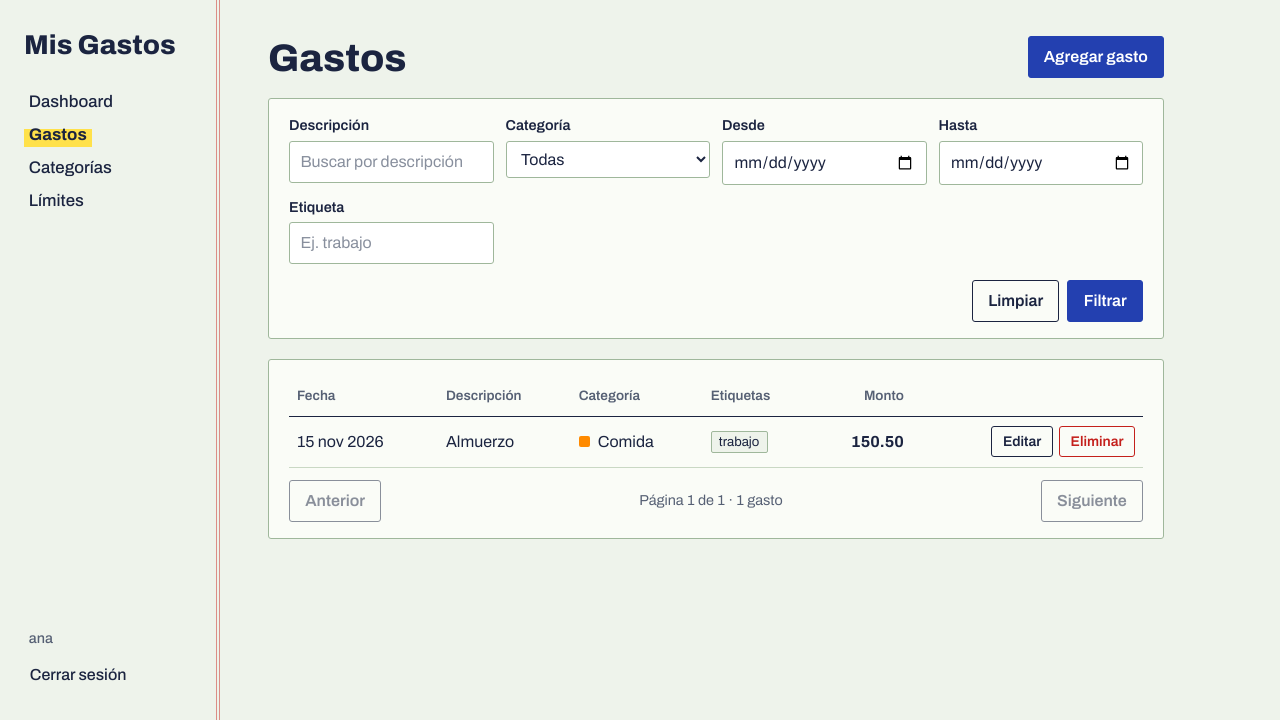
it: ExpensesPage: filters › explains that no expense matches the filters
Check: the heading "Gastos" is shown, box [268,38,407,78]
Check: the table is shown, box [289,376,1143,468]
Type "nada" into the search field labelled "Descripción" at (391, 162), box [289,141,494,183]
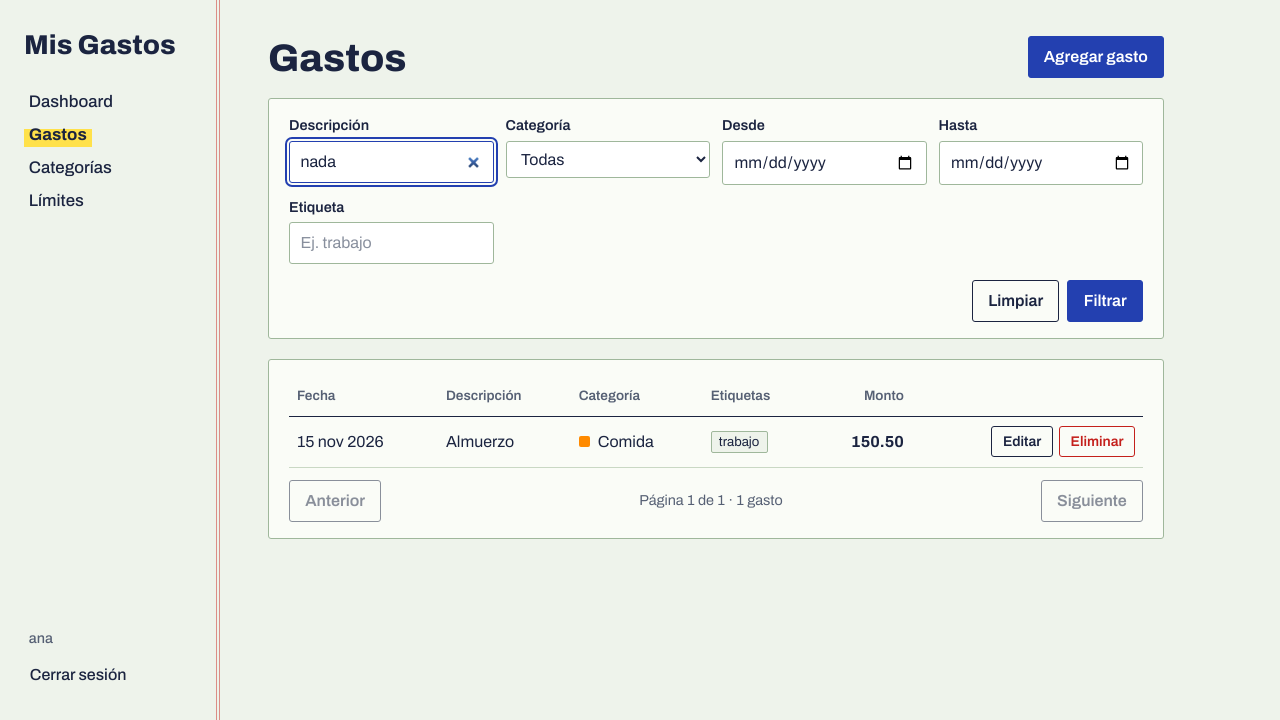
Click the button "Filtrar" at (1105, 301), box [1068,280,1143,322]
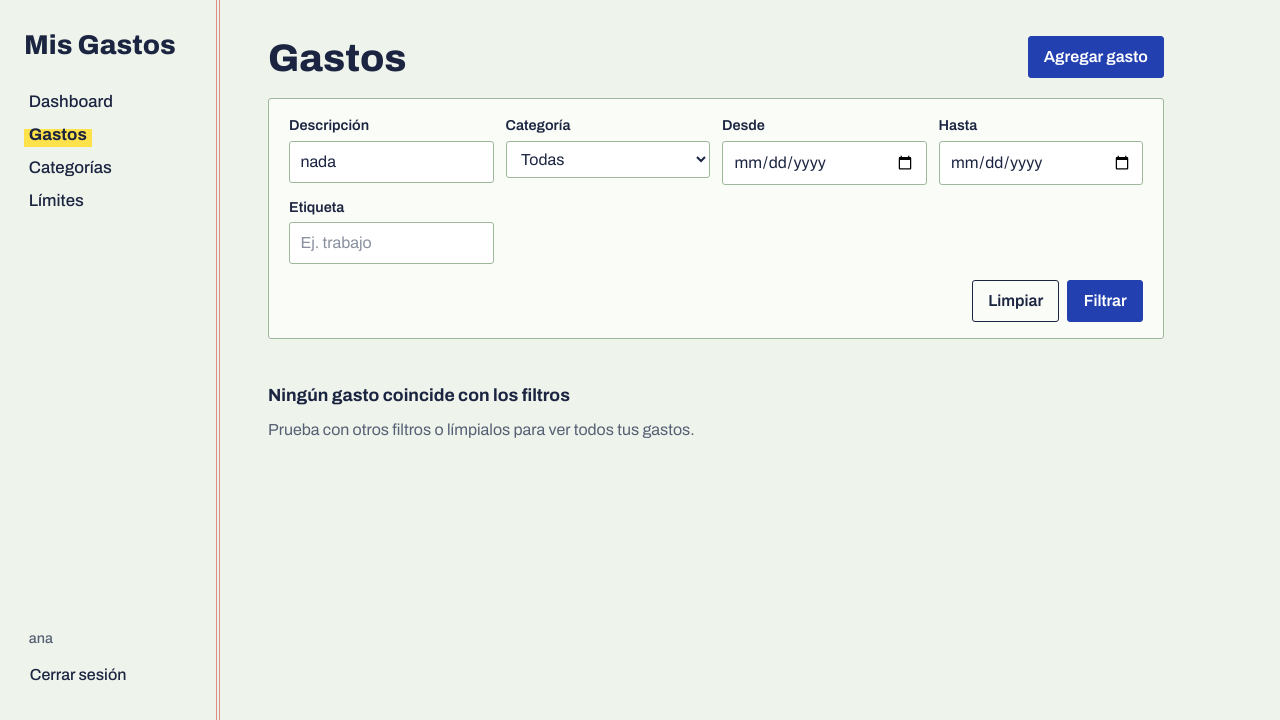
Check: the text "Ningún gasto coincide con los filtros" is shown, box [268,383,570,410]
